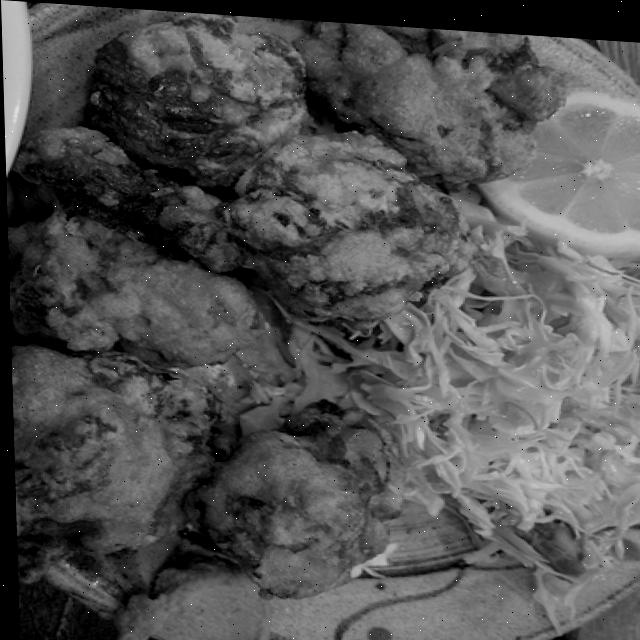鸡肉料理 含炸鸡: (0, 0, 576, 627)
